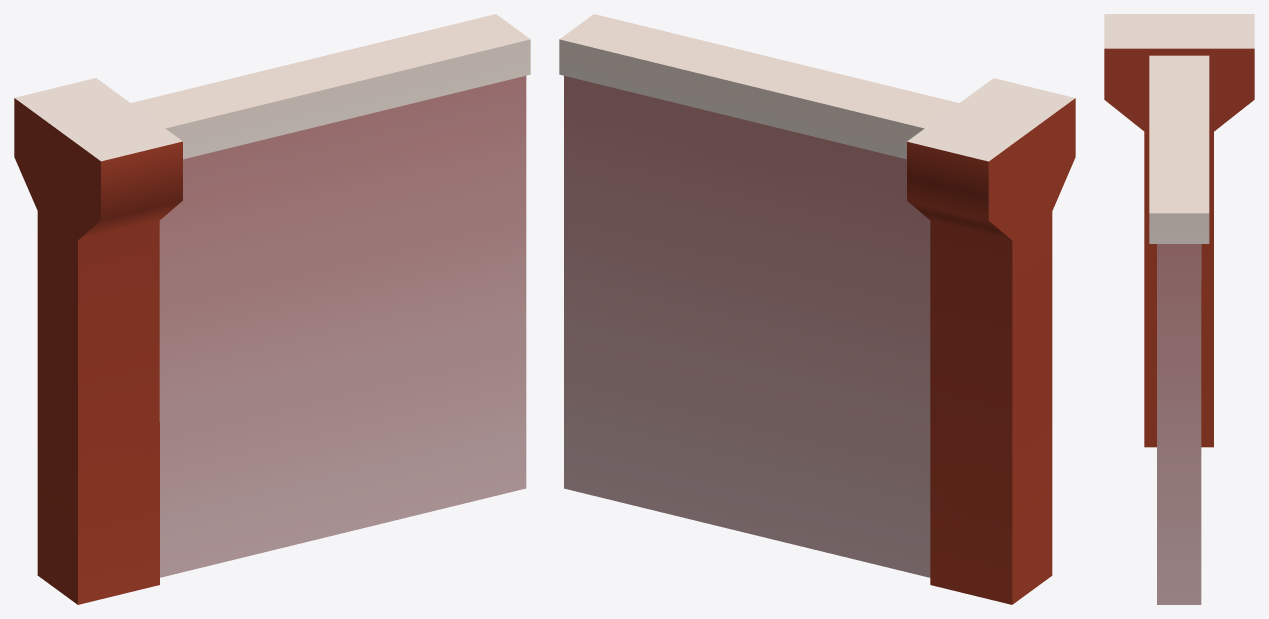
File: M1_Wall_07_1.fbx
The picture shows the model from 3 angles, left to right: view 1: azimuth 30°, elevation 25°; view 2: azimuth 150°, elevation 25°; view 3: azimuth 270°, elevation 25°; orthographic projection. The views are drawn at different scales.
Visible parts, largest first — view 1: M1_Wall_07_1; view 2: M1_Wall_07_1; view 3: M1_Wall_07_1.
Part boxes in pixels (bbox=[...]): M1_Wall_07_1: bbox=[14, 14, 530, 604]; M1_Wall_07_1: bbox=[559, 14, 1075, 604]; M1_Wall_07_1: bbox=[1104, 14, 1254, 604].
Bounding box in the file's own units: 400 × 386 × 132.
